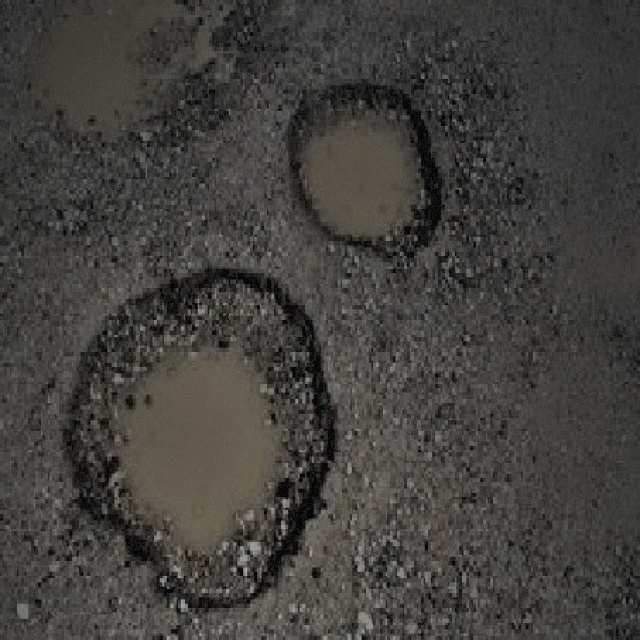pothole: (56, 260, 344, 619), (20, 0, 250, 156), (283, 77, 447, 256)
